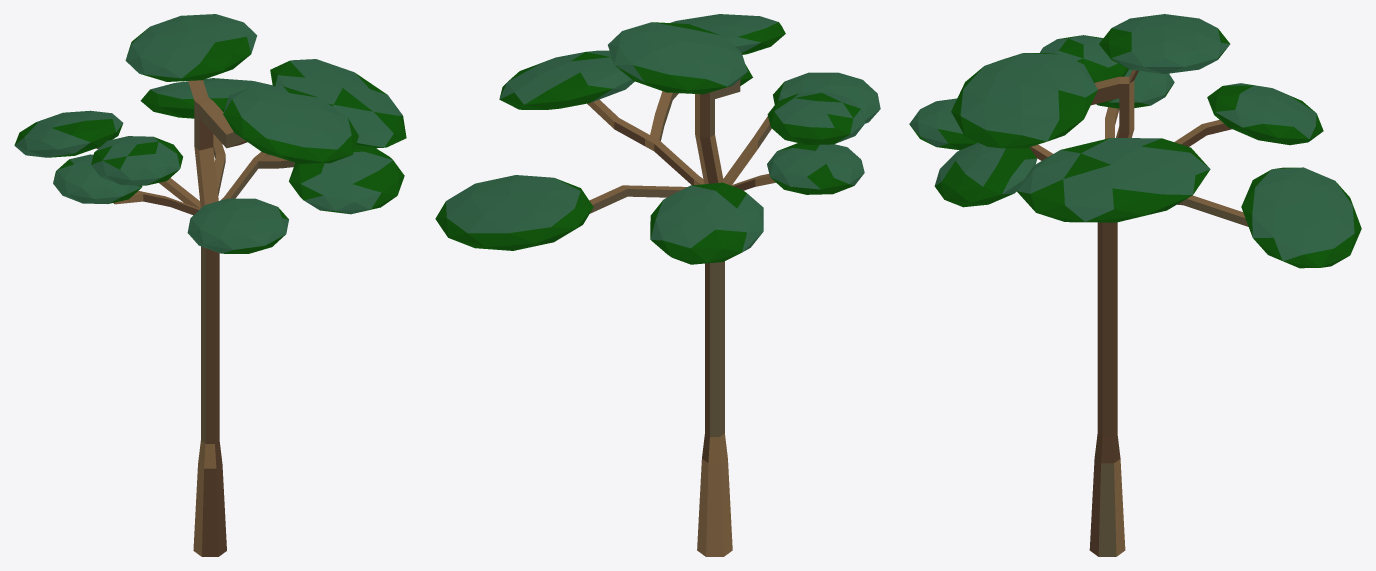
The model's file is Tree.glb.
3 renders of one model, left to right at view 1: azimuth 30°, elevation 25°; view 2: azimuth 150°, elevation 25°; view 3: azimuth 270°, elevation 25°, orthographic. The views are drawn at different scales.
Parts seen in each view (by area): view 1: Leaves, Bark; view 2: Leaves, Bark; view 3: Leaves, Bark.
Part boxes in pixels (x1,y1,x2,y2): Leaves: (14,14,406,253); Bark: (96,80,294,556); Leaves: (435,14,880,264); Bark: (587,79,775,556); Leaves: (909,14,1361,268); Bark: (1029,70,1248,556).
Bounding box in the file's own units: 22.28 × 32.73 × 25.38.
